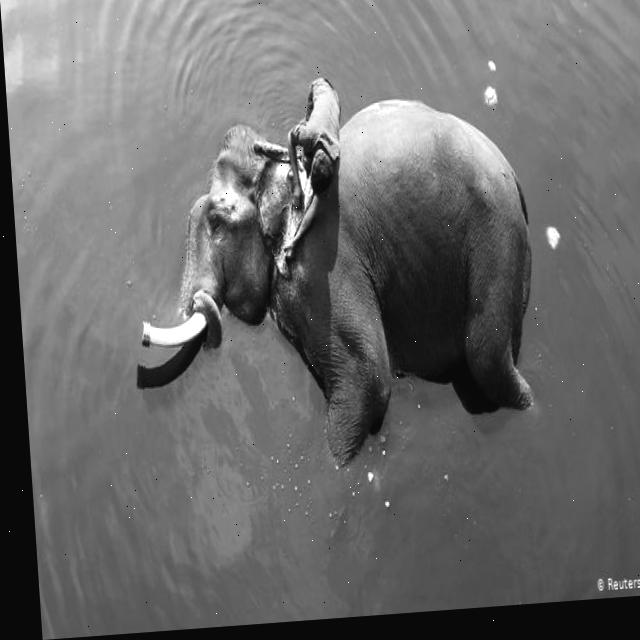Elephant: (123, 87, 546, 484)
